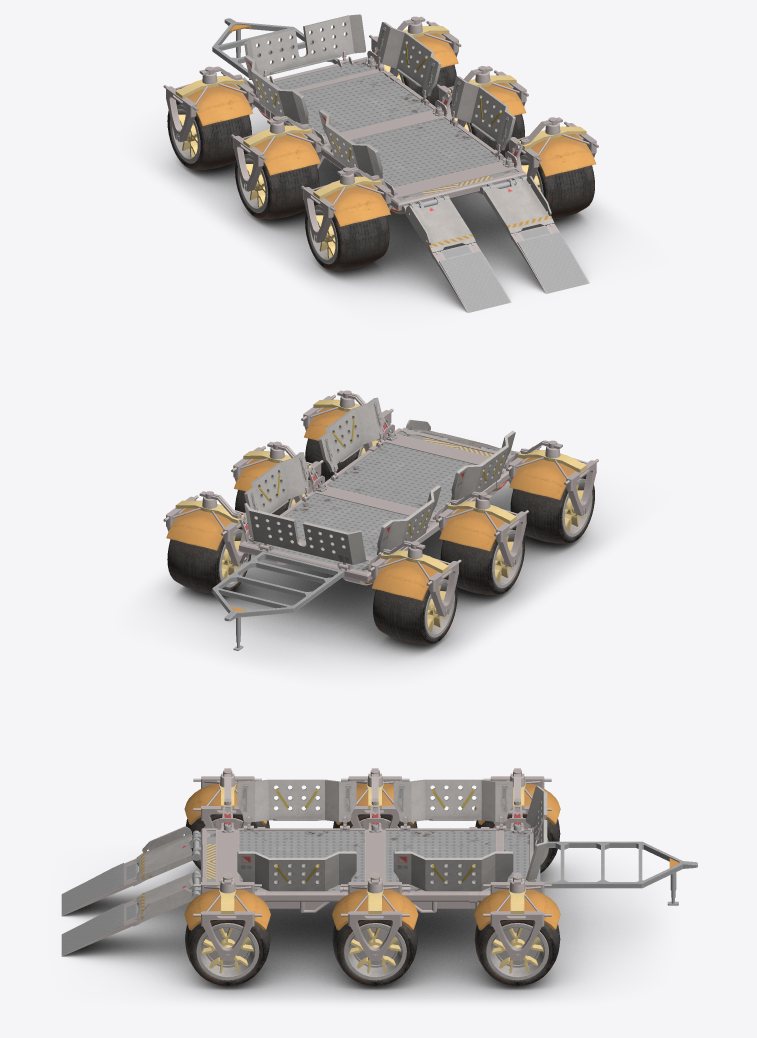
The model's file is mars_rover_custom.glb.
3 views of the same model, one above another, from view 1: azimuth 30°, elevation 25°; view 2: azimuth 150°, elevation 25°; view 3: azimuth 270°, elevation 25° (orthographic). The views are drawn at different scales.
Visible parts, largest first — view 1: mars_rover, Sketchfab Floor_sketchfab_floor_0; view 2: mars_rover, Sketchfab Floor_sketchfab_floor_0; view 3: mars_rover, Sketchfab Floor_sketchfab_floor_0.
Part boxes in pixels (x1,y1,x2,y2): mars_rover: (163,14,598,312); Sketchfab Floor_sketchfab_floor_0: (143,107,622,312); mars_rover: (163,390,598,650); Sketchfab Floor_sketchfab_floor_0: (143,447,622,674); mars_rover: (61,768,697,985); Sketchfab Floor_sketchfab_floor_0: (62,850,659,1003).
Size of the model in its own units: 228594 by 59610 by 357952.
2 materials, 2 textured.
